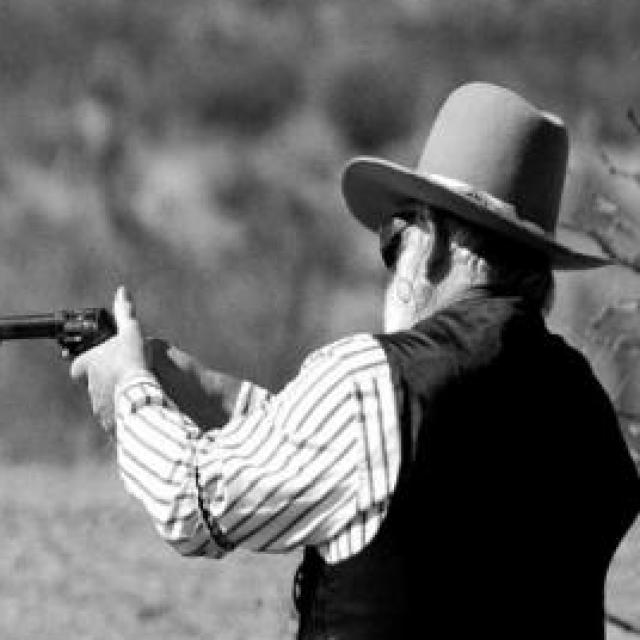pistol: (0, 301, 117, 358)
